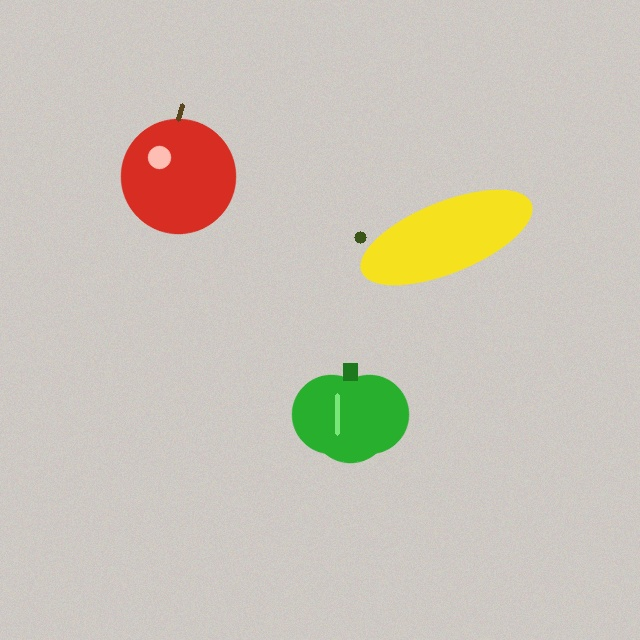Fresh apple: (121, 105, 235, 233)
Fresh banana: (351, 194, 541, 280)
Fresh bell pepper: (292, 363, 408, 462)
